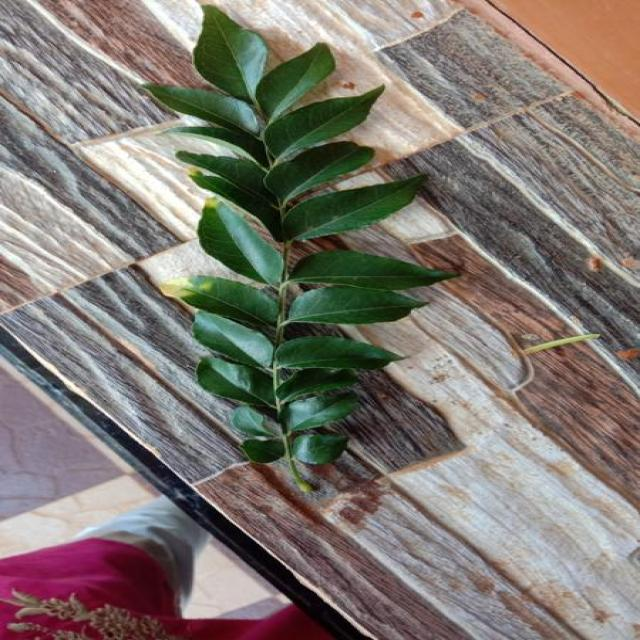curry: (143, 6, 453, 491)
